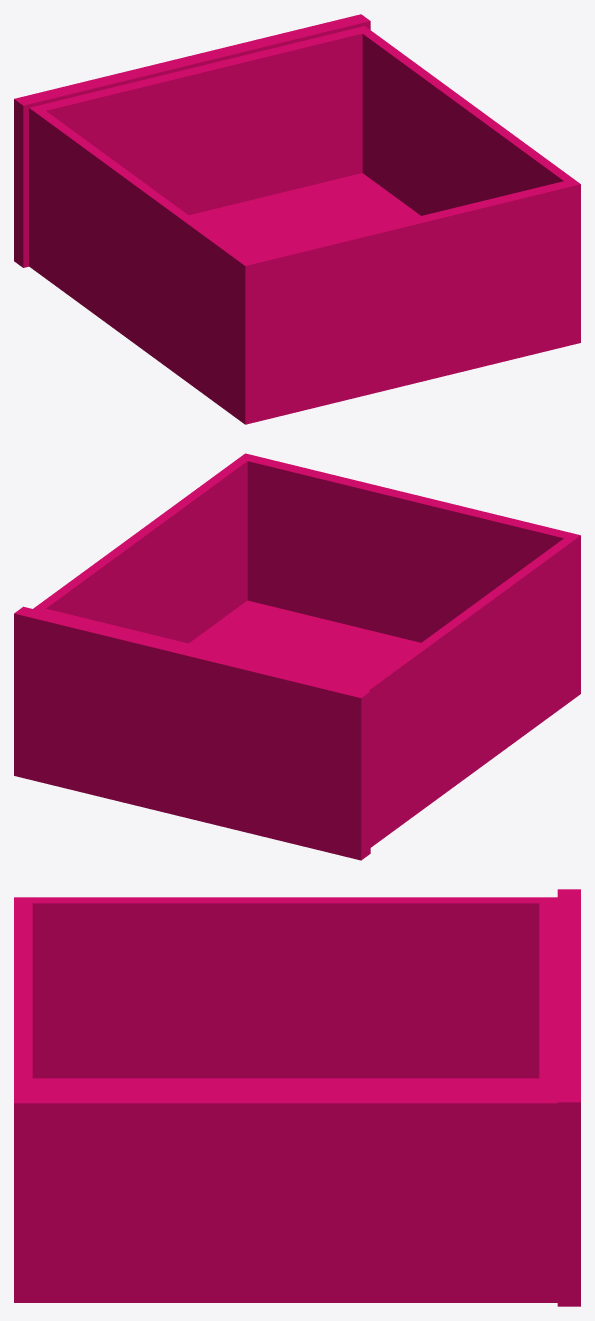
Rendered from NightStand_01_Drawer_Lod0.fbx.
3 renders of one model, top to bottom at view 1: azimuth 30°, elevation 25°; view 2: azimuth 150°, elevation 25°; view 3: azimuth 270°, elevation 25°, orthographic. The views are drawn at different scales.
Parts seen in each view (by area): view 1: NightStand_01_Drawer_Lod0; view 2: NightStand_01_Drawer_Lod0; view 3: NightStand_01_Drawer_Lod0.
Part boxes in pixels (left/top/right/bottom): NightStand_01_Drawer_Lod0: left=14, top=14, right=580, bottom=424; NightStand_01_Drawer_Lod0: left=14, top=453, right=580, bottom=860; NightStand_01_Drawer_Lod0: left=14, top=889, right=580, bottom=1306.
Size of the model in its own units: 34.52 by 15.42 by 38.84.
